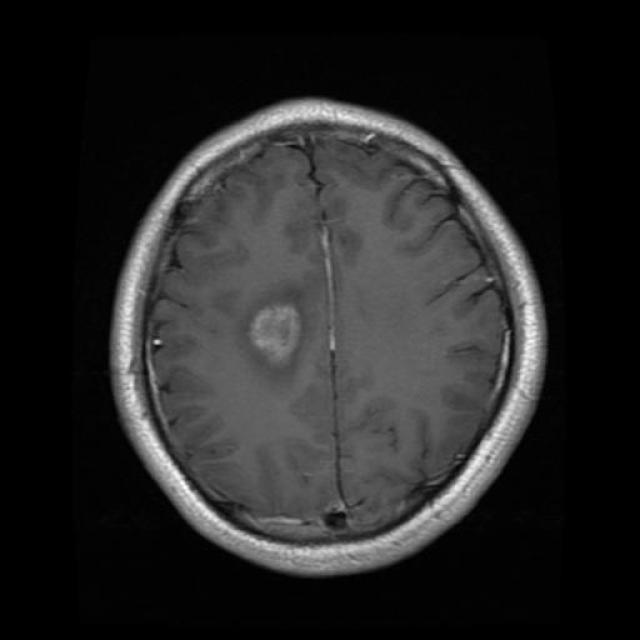glioma: (242, 284, 312, 382)
